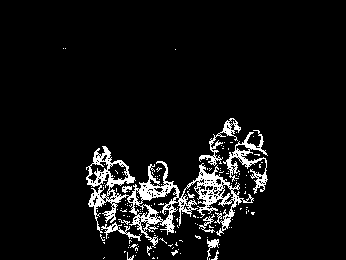person: (183, 155, 234, 258), (135, 157, 180, 258), (232, 126, 268, 215), (105, 160, 141, 241), (88, 144, 115, 246), (212, 115, 240, 193)
